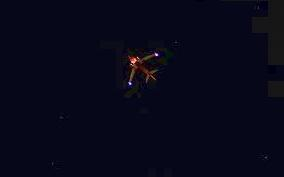Plane: (124, 44, 161, 101)
